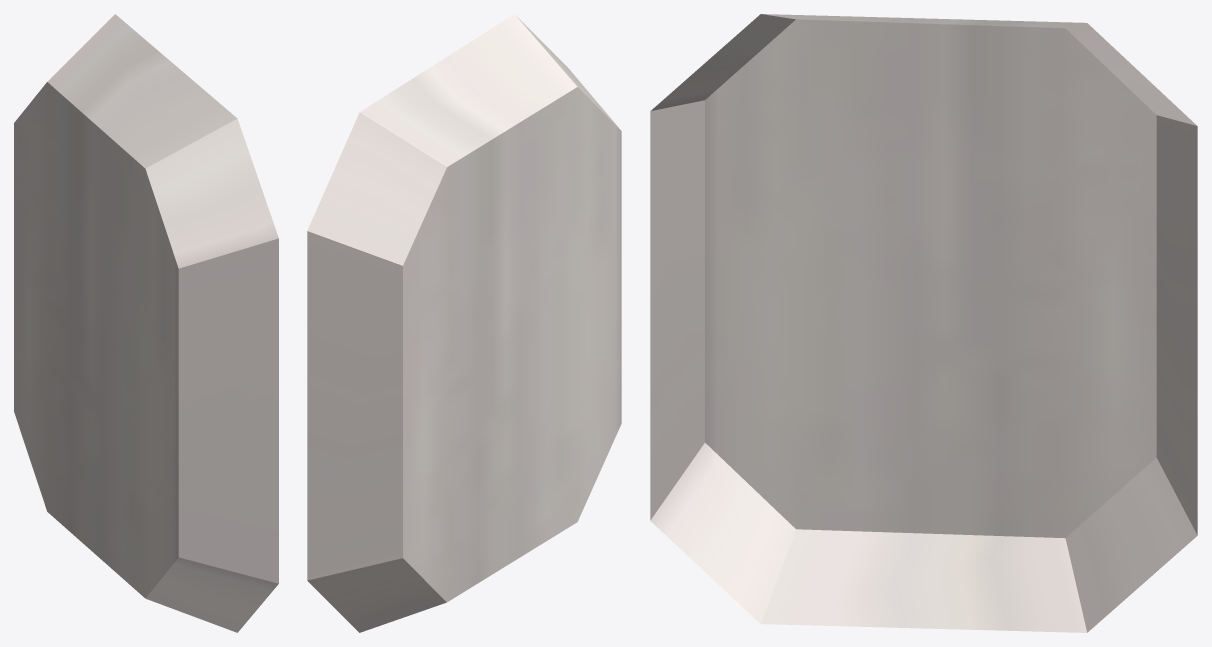
The model's file is A_HA_GEN_Ship_Porthole_Closed_01.fbx.
The picture shows the model from 3 angles, left to right: view 1: azimuth 30°, elevation 25°; view 2: azimuth 150°, elevation 25°; view 3: azimuth 270°, elevation 25°; orthographic projection. The views are drawn at different scales.
Visible parts, largest first — view 1: A_HA_Gen_Ship_Porthole_Closed_01; view 2: A_HA_Gen_Ship_Porthole_Closed_01; view 3: A_HA_Gen_Ship_Porthole_Closed_01.
Part boxes in pixels (bbox=[...]): A_HA_Gen_Ship_Porthole_Closed_01: bbox=[14, 14, 278, 632]; A_HA_Gen_Ship_Porthole_Closed_01: bbox=[307, 14, 621, 632]; A_HA_Gen_Ship_Porthole_Closed_01: bbox=[650, 14, 1197, 632].
Size of the model in its own units: 24.38 by 116 by 94.59.
Materials: 1 (1 with a texture image).
